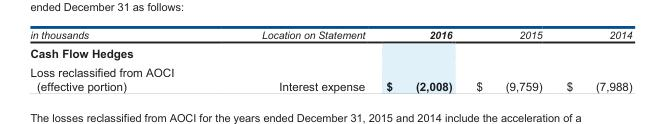table: (29, 28, 631, 92)
table column: (193, 28, 374, 92), (29, 28, 193, 92), (463, 28, 553, 92), (374, 28, 463, 92), (553, 28, 631, 92)
table column header: (29, 28, 631, 43)
table projected row header: (29, 43, 631, 62), (29, 62, 631, 78)
table row: (29, 43, 631, 62), (29, 62, 631, 78), (29, 28, 631, 43), (29, 78, 631, 92)
